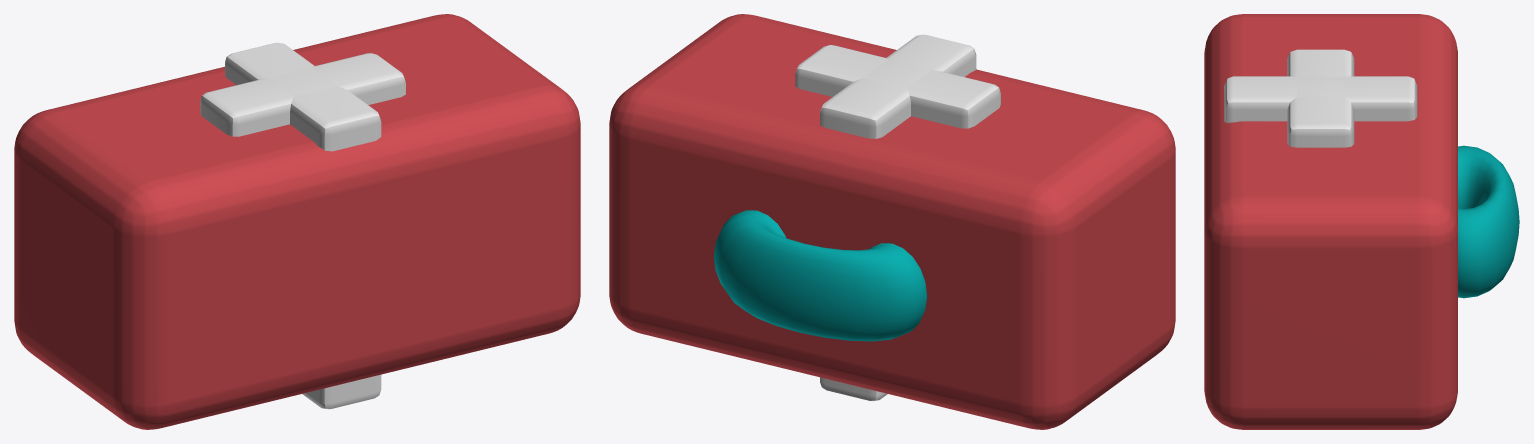
The picture shows the model from 3 angles, left to right: view 1: azimuth 30°, elevation 25°; view 2: azimuth 150°, elevation 25°; view 3: azimuth 270°, elevation 25°; orthographic projection. The views are drawn at different scales.
Parts seen in each view (by area): view 1: pCube1, pCube2, pasted__pCube2; view 2: pCube1, pTorus1, pCube2, pasted__pCube2; view 3: pCube1, pTorus1, pCube2, pasted__pCube2.
Boxes of the visible parts, box(x1,y1,x2,y2) form: pCube1: box(14, 14, 580, 429); pCube2: box(225, 42, 381, 409); pasted__pCube2: box(200, 53, 405, 136); pCube1: box(609, 14, 1175, 429); pTorus1: box(713, 210, 927, 341); pCube2: box(820, 34, 976, 401); pasted__pCube2: box(795, 45, 1000, 128); pCube1: box(1204, 14, 1457, 429); pTorus1: box(1458, 145, 1519, 298); pCube2: box(1224, 76, 1417, 123); pasted__pCube2: box(1287, 49, 1354, 147).
Bounding box in the file's own units: 0.0197 × 0.0118 × 0.0124.
